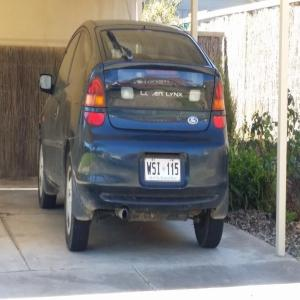Vehicle-registration-plate: (146, 159, 182, 184)
